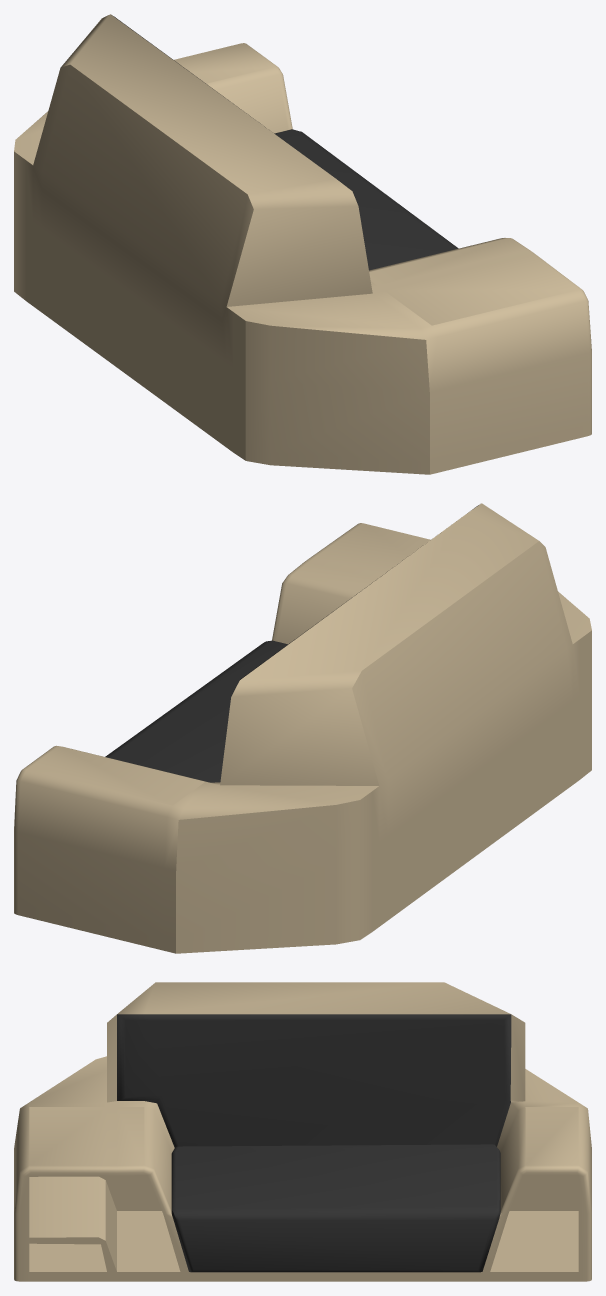
File: canapé_gris.fbx
3 renders of one model, top to bottom at view 1: azimuth 30°, elevation 25°; view 2: azimuth 150°, elevation 25°; view 3: azimuth 270°, elevation 25°, orthographic. The views are drawn at different scales.
Visible parts, largest first — view 1: Object001; view 2: Object001; view 3: Object001.
Boxes of the visible parts, box(x1,y1,x2,y2) form: Object001: box(14, 14, 591, 474); Object001: box(14, 503, 591, 953); Object001: box(14, 982, 591, 1281).
Bounding box in the file's own units: 23.26 × 18.35 × 48.52.
